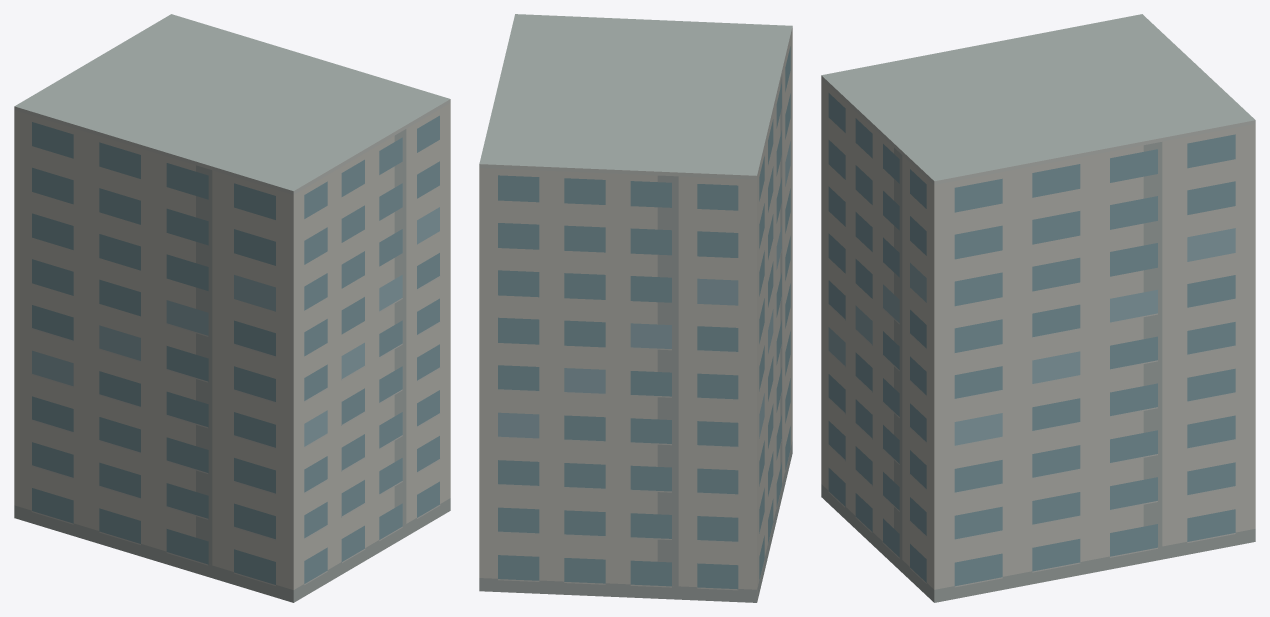
The model's file is residential-d4f4be63-bb73-4daa-b66e-d9f8eb8eba21.glb.
3 views of the same model, side by side, from view 1: azimuth 30°, elevation 25°; view 2: azimuth 150°, elevation 25°; view 3: azimuth 270°, elevation 25° (orthographic). The views are drawn at different scales.
Visible parts, largest first — view 1: residential-d4f4be63-bb73-4daa-b66e-d9f8eb8eba21.tmp; view 2: residential-d4f4be63-bb73-4daa-b66e-d9f8eb8eba21.tmp; view 3: residential-d4f4be63-bb73-4daa-b66e-d9f8eb8eba21.tmp.
Boxes of the visible parts, box(x1,y1,x2,y2) form: residential-d4f4be63-bb73-4daa-b66e-d9f8eb8eba21.tmp: box(14, 14, 450, 602); residential-d4f4be63-bb73-4daa-b66e-d9f8eb8eba21.tmp: box(479, 14, 792, 602); residential-d4f4be63-bb73-4daa-b66e-d9f8eb8eba21.tmp: box(821, 14, 1255, 602).
Bounding box in the file's own units: 22.98 × 27 × 25.22.
